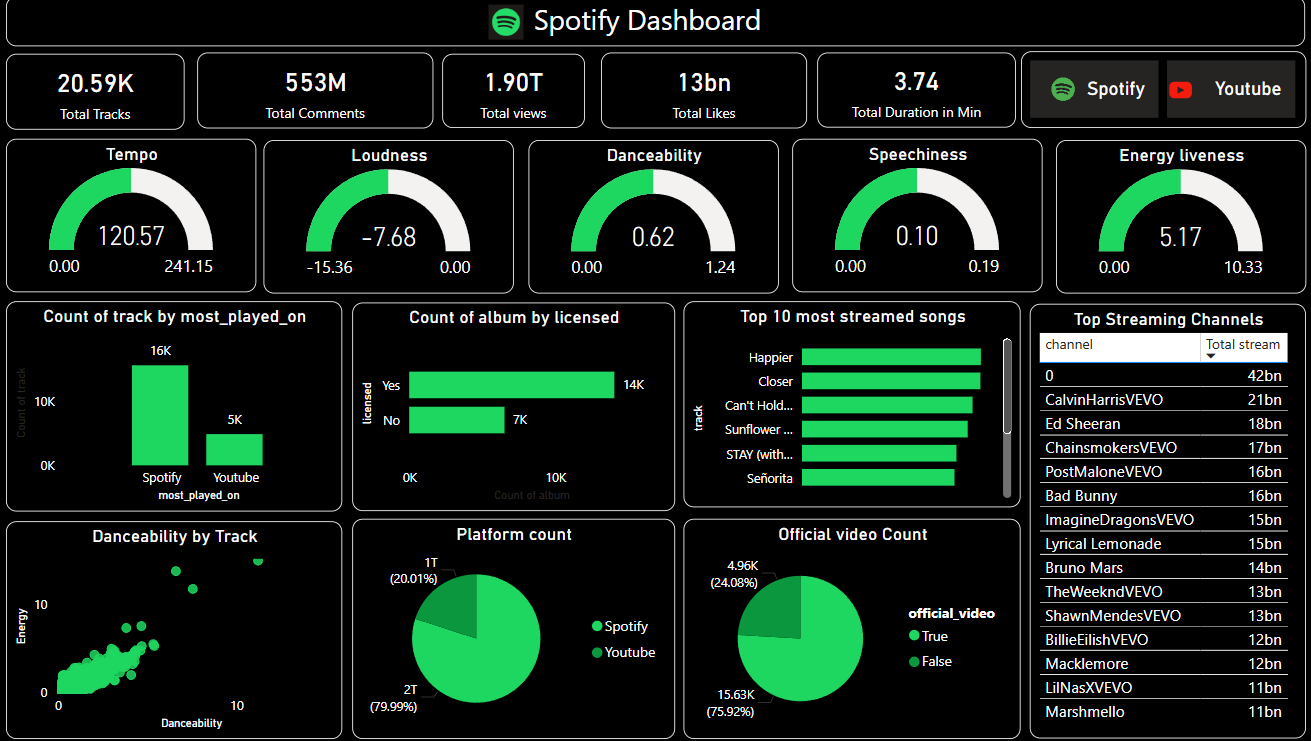

This screenshot's page, from the dashboard's own definition file:
{"tool":"powerbi","page":{"name":"Page 1","canvas":[1280,720],"ordinal":0},"visuals":[{"type":"columnChart","fields":{"Category":["public spotify.most_played_on"],"Y":["CountNonNull(public spotify.track)"]},"box":[19.2,293.6,322.4,201.3],"z":0},{"type":"card","fields":{"Values":["Sum(public spotify.comments)"]},"box":[202.5,55.1,226.5,73.1],"z":1000},{"type":"card","fields":{"Values":["Sum(public spotify.likes)"]},"box":[589.7,55.1,197.8,73.1],"z":2000},{"type":"advancedSlicerVisual","fields":{"Values":["public spotify.most_played_on"]},"box":[992.8,53.9,273.6,73.6],"z":3000},{"type":"card","fields":{"Values":["Sum(public spotify.views)"]},"box":[437.3,56,136.8,71.5],"z":4000},{"type":"clusteredBarChart","fields":{"Category":["public spotify.licensed"],"Y":["CountNonNull(public spotify.album)"]},"box":[351.2,294.8,309.2,200.1],"z":5000},{"type":"card","fields":{"Values":["Avg(public spotify.duration_min)"]},"box":[797,55.1,190.6,71.9],"z":6000},{"type":"card","fields":{"Values":["CountNonNull(public spotify.track)"]},"box":[19.2,56.3,171.4,73.1],"z":7000},{"type":"pieChart","title":"Platform count","fields":{"Category":["public spotify.most_played_on"],"Y":["Sum(public spotify.stream)"]},"box":[351.2,502.2,309.2,210.9],"z":8000},{"type":"scatterChart","title":"Danceability by Track","fields":{"X":["Sum(public spotify.danceability)"],"Y":["Sum(public spotify.energy)"],"Category":["public spotify.track"]},"box":[19.2,504.6,322.4,208.5],"z":9000},{"type":"clusteredBarChart","title":"Top 10 most  streamed  songs","fields":{"Category":["public spotify.track"],"Y":["Sum(public spotify.stream)"]},"box":[668.8,293.6,323.6,197.8],"z":10000},{"type":"gauge","title":"Danceability","fields":{"Y":["Avg(public spotify.danceability)"]},"box":[520.1,139,239.7,147.4],"z":11000},{"type":"shape","box":[19.7,1,1245.6,47.7],"z":12000},{"type":"gauge","title":"Tempo","fields":{"Y":["Avg(public spotify.tempo)"]},"box":[19.2,137.8,240,147.4],"z":13000},{"type":"gauge","title":"Loudness","fields":{"Y":["Avg(public spotify.loudness)"]},"box":[266.1,139,239.7,147.4],"z":14000},{"type":"gauge","title":"Energy liveness","fields":{"Y":["Avg(public spotify.energy_liveness)"]},"box":[1025.9,139,239.7,147.4],"z":15000},{"type":"gauge","title":"Speechiness","fields":{"Y":["Avg(public spotify.speechiness)"]},"box":[773,137.8,239.7,147.4],"z":16000},{"type":"pieChart","title":"Official video Count","fields":{"Category":["public spotify.official_video"],"Y":["CountNonNull(public spotify.official_video)"]},"box":[668.8,502.2,323.6,210.9],"z":17000},{"type":"tableEx","title":"Top Streaming Channels","fields":{"Values":["public spotify.channel","Sum(public spotify.stream)"]},"box":[1000.7,296,264.9,417.1],"z":18000},{"type":"textbox","box":[520.1,0,296,83.9],"z":19000},{"type":"image","box":[1000.7,74.3,63.5,32.4],"z":20000},{"type":"image","box":[1117,75.5,57.5,31.2],"z":21000},{"type":"image","box":[477,1.2,43.1,49.1],"z":21001}]}

Visuals, with their boxes in screenshot pixels (x1, y1, x2, y2), scaled from the page's 1280x720 canvas onto the 1311x741 screenshot:
columnChart - public spotify.most_played_on x CountNonNull(public spotify.track): <box>20,302,350,509</box>
card - Sum(public spotify.comments): <box>207,57,439,132</box>
card - Sum(public spotify.likes): <box>604,57,807,132</box>
advancedSlicerVisual - public spotify.most_played_on: <box>1017,55,1297,131</box>
card - Sum(public spotify.views): <box>448,58,588,131</box>
clusteredBarChart - public spotify.licensed x CountNonNull(public spotify.album): <box>360,303,676,509</box>
card - Avg(public spotify.duration_min): <box>816,57,1012,131</box>
card - CountNonNull(public spotify.track): <box>20,58,195,133</box>
"Platform count" pieChart: <box>360,517,676,734</box>
"Danceability by Track" scatterChart: <box>20,519,350,734</box>
"Top 10 most  streamed  songs" clusteredBarChart: <box>685,302,1016,506</box>
"Danceability" gauge: <box>533,143,778,295</box>
shape: <box>20,1,1296,50</box>
"Tempo" gauge: <box>20,142,265,294</box>
"Loudness" gauge: <box>273,143,518,295</box>
"Energy liveness" gauge: <box>1051,143,1296,295</box>
"Speechiness" gauge: <box>792,142,1037,294</box>
"Official video Count" pieChart: <box>685,517,1016,734</box>
"Top Streaming Channels" tableEx: <box>1025,305,1296,734</box>
textbox: <box>533,0,836,86</box>
image: <box>1025,76,1090,110</box>
image: <box>1144,78,1203,110</box>
image: <box>489,1,533,52</box>
